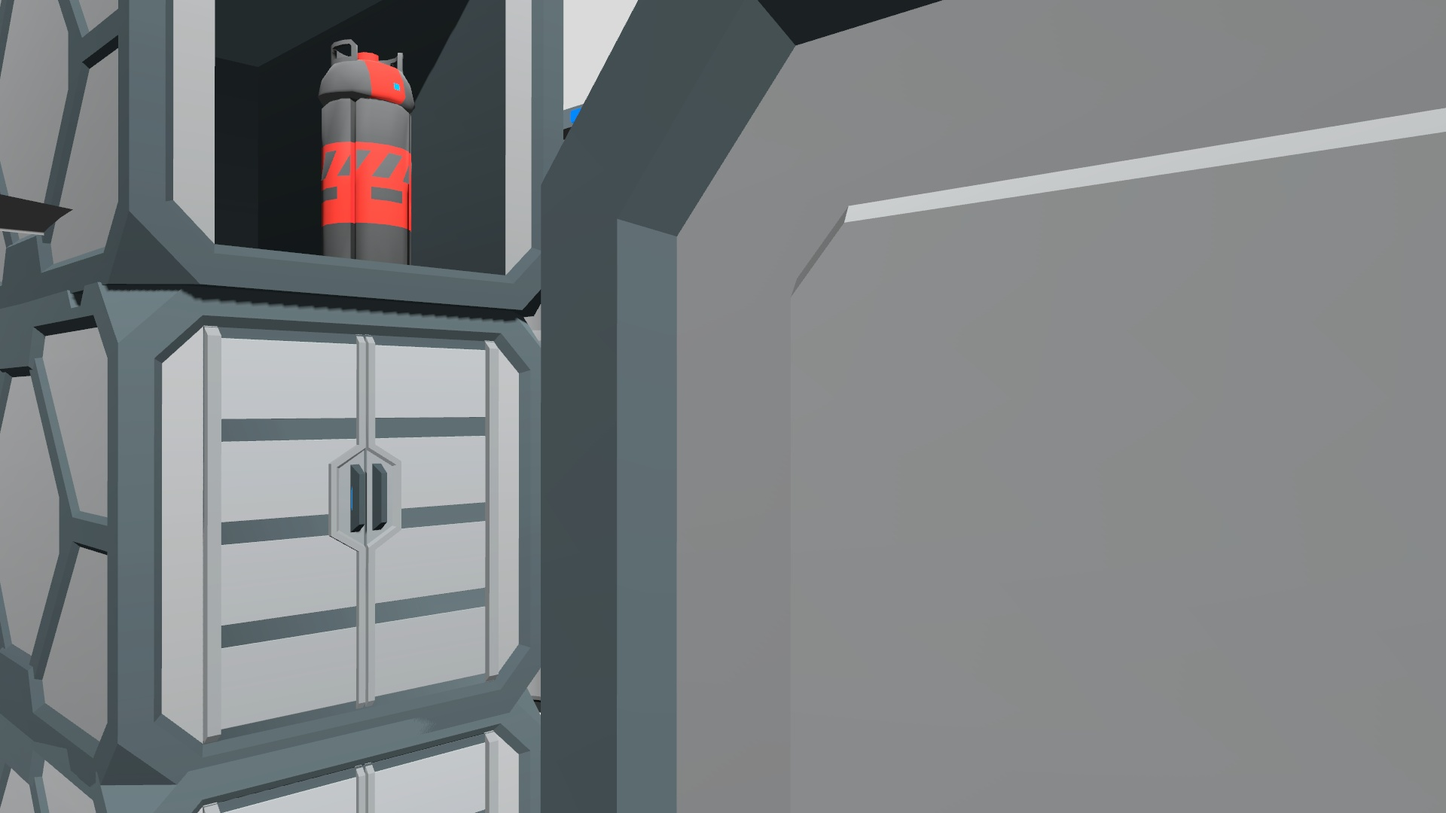red_barrel: (319, 36, 416, 272)
